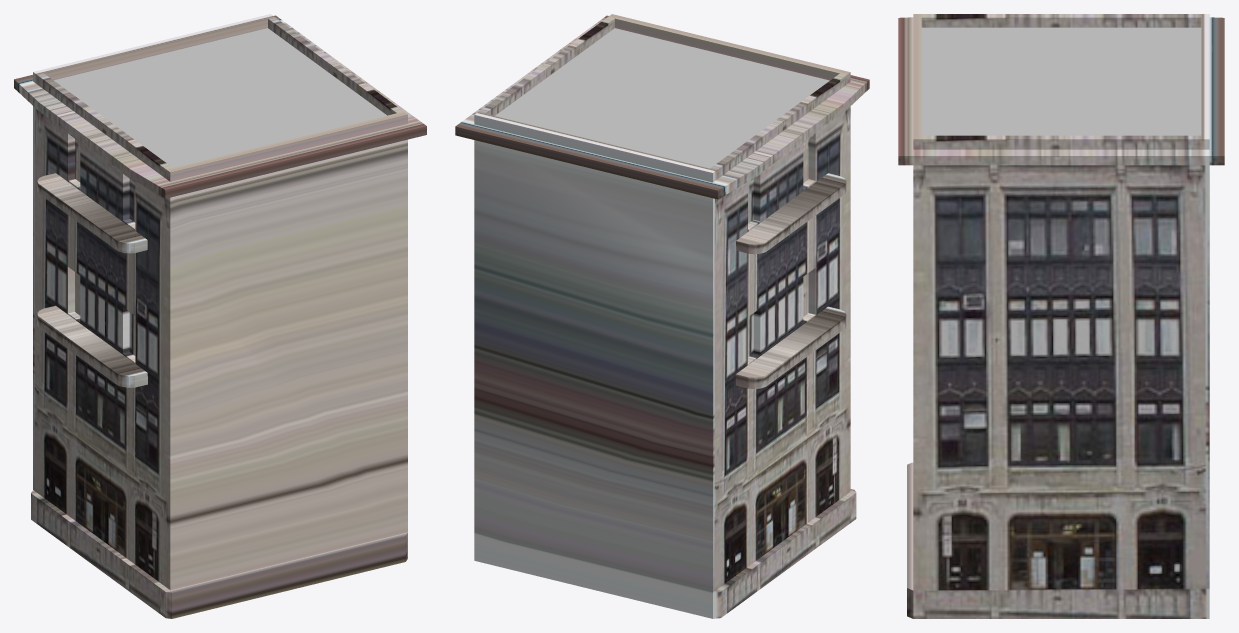
File: bldg_04.FBX
3 views of the same model, side by side, from view 1: azimuth 30°, elevation 25°; view 2: azimuth 150°, elevation 25°; view 3: azimuth 270°, elevation 25° (orthographic). The views are drawn at different scales.
Visible parts, largest first — view 1: building_04; view 2: building_04; view 3: building_04.
Part boxes in pixels (x1,y1,x2,y2): building_04: (14,14,426,618); building_04: (455,14,869,618); building_04: (898,14,1224,618).
Size of the model in its own units: 476 by 738 by 455.
